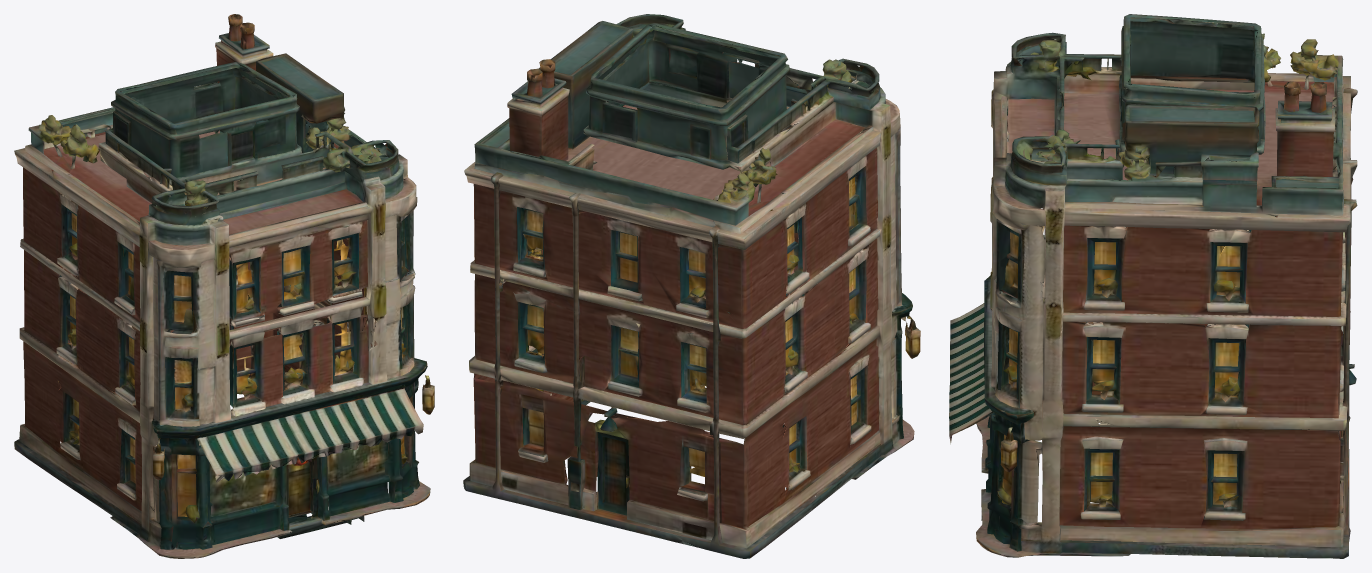
Rendered from candidate.glb.
3 renders of one model, left to right at view 1: azimuth 30°, elevation 25°; view 2: azimuth 150°, elevation 25°; view 3: azimuth 270°, elevation 25°, orthographic. The views are drawn at different scales.
Visible parts, largest first — view 1: expansion__shop_3__native_mobile; view 2: expansion__shop_3__native_mobile; view 3: expansion__shop_3__native_mobile.
Boxes of the visible parts, x1,y1,x2,y2 form: expansion__shop_3__native_mobile: (14, 14, 434, 558); expansion__shop_3__native_mobile: (463, 14, 920, 558); expansion__shop_3__native_mobile: (949, 14, 1357, 558).
Bounding box in the file's own units: 0.7531 × 1 × 0.8276.
Materials: 1 (1 with a texture image).
